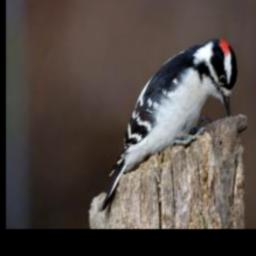Woodpecker: (97, 35, 240, 215)
